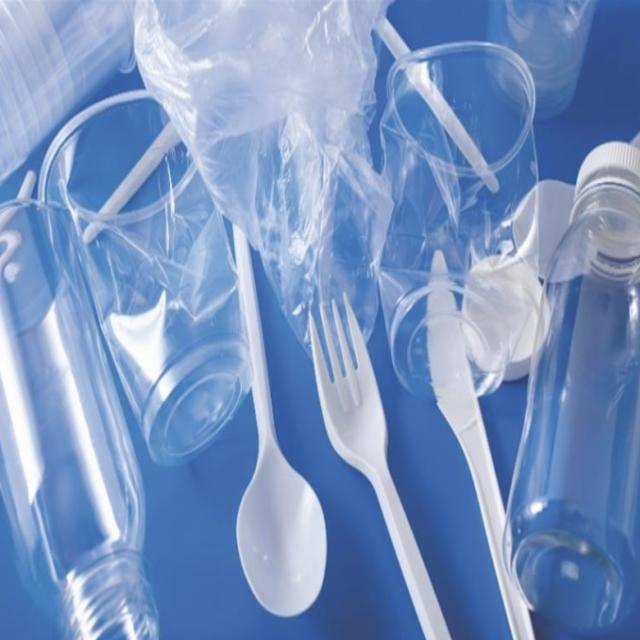recyclable: (29, 49, 252, 482), (478, 86, 640, 640), (294, 245, 468, 640), (405, 205, 552, 640)
